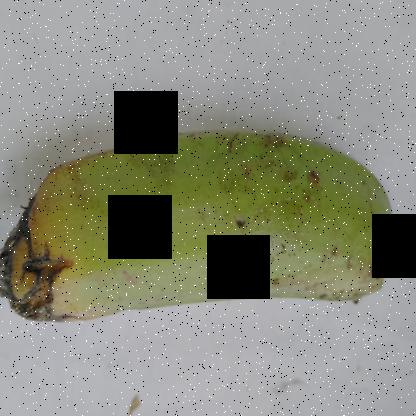rotten: (1, 151, 105, 380)
unripe: (80, 130, 402, 338)
